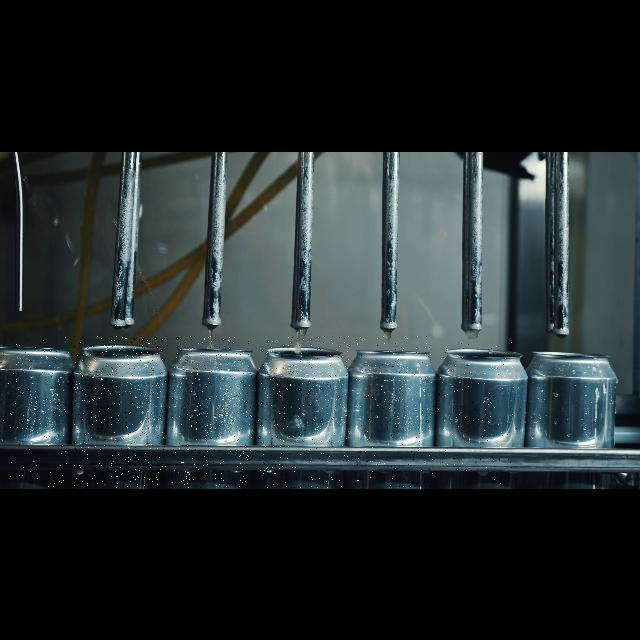empty: (526, 336, 624, 488), (74, 336, 166, 488), (258, 336, 350, 488), (172, 336, 252, 488), (438, 340, 520, 488), (356, 336, 434, 488), (3, 334, 69, 488)
